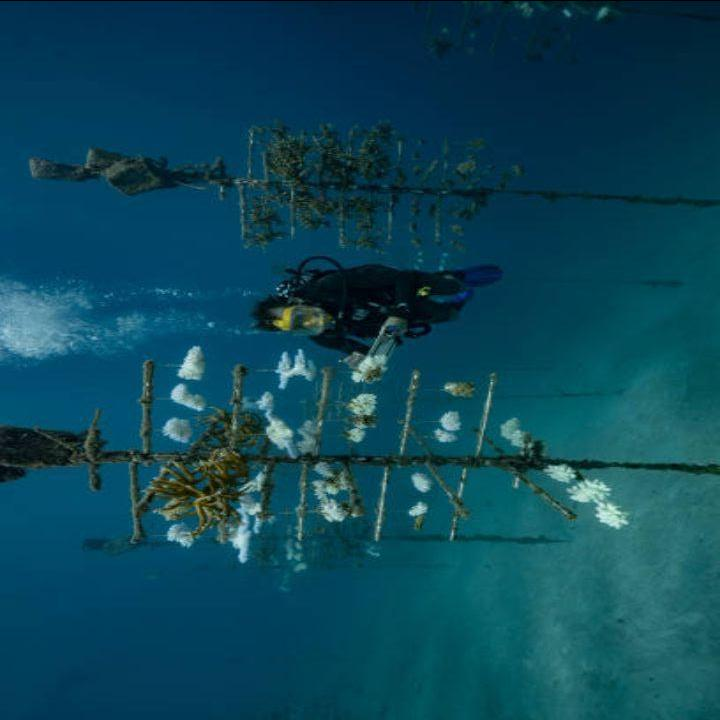Bleached disease: (546, 447, 639, 538), (305, 454, 363, 527), (247, 389, 304, 460), (225, 493, 262, 560), (496, 413, 541, 461), (343, 390, 378, 443), (270, 346, 314, 386), (168, 380, 209, 416), (431, 405, 466, 446), (176, 344, 206, 382), (164, 519, 197, 550), (409, 467, 437, 495), (408, 500, 428, 529), (162, 416, 182, 440)
